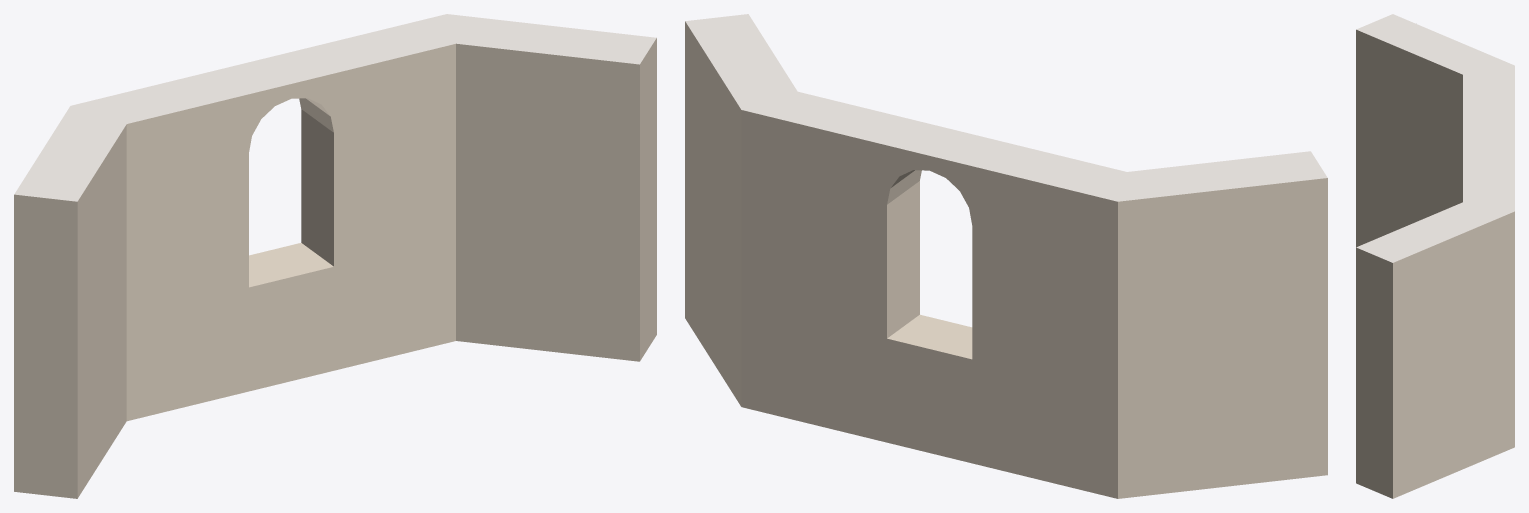
File: Tower_Wall_Normal_Window.glb
The picture shows the model from 3 angles, left to right: view 1: azimuth 30°, elevation 25°; view 2: azimuth 150°, elevation 25°; view 3: azimuth 270°, elevation 25°; orthographic projection. The views are drawn at different scales.
Parts seen in each view (by area): view 1: Tower_Wall_Normal_Window; view 2: Tower_Wall_Normal_Window; view 3: Tower_Wall_Normal_Window.
Part boxes in pixels (left/top/right/bottom): Tower_Wall_Normal_Window: left=14, top=14, right=656, bottom=498; Tower_Wall_Normal_Window: left=685, top=14, right=1327, bottom=498; Tower_Wall_Normal_Window: left=1356, top=14, right=1514, bottom=498.
Size of the model in its own units: 2.26 by 1 by 0.6101.
